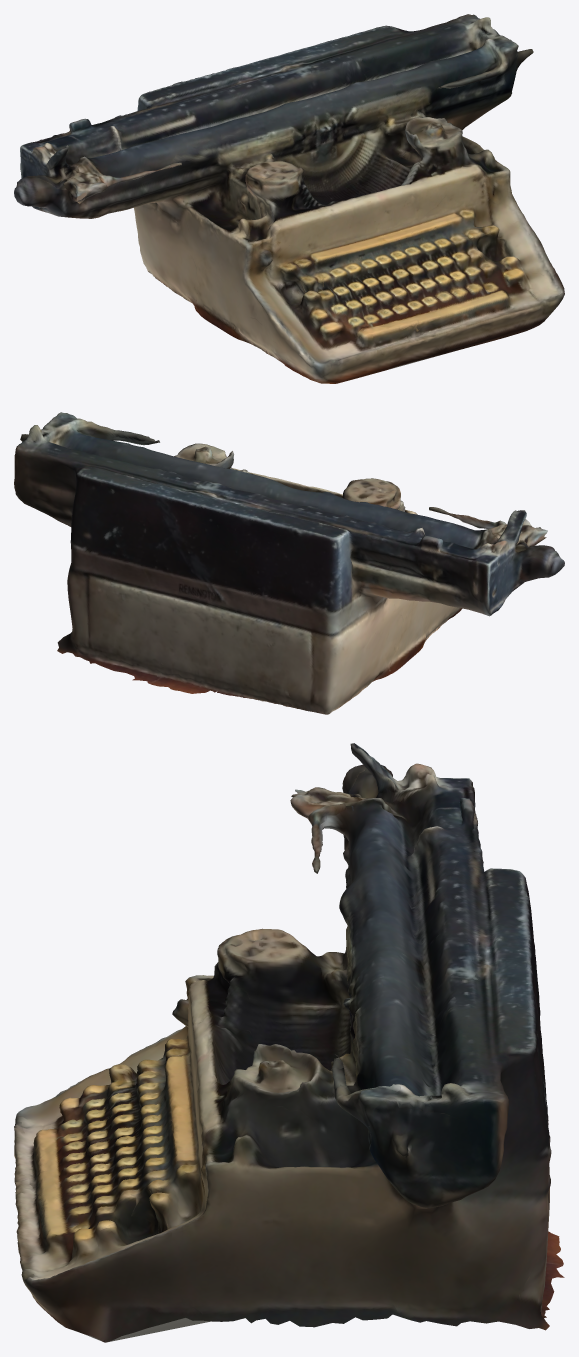
Rendered from Old_Typewriter.glb.
3 views of the same model, one above another, from view 1: azimuth 30°, elevation 25°; view 2: azimuth 150°, elevation 25°; view 3: azimuth 270°, elevation 25° (orthographic). The views are drawn at different scales.
Visible parts, largest first — view 1: 3DModel.001; view 2: 3DModel.001; view 3: 3DModel.001.
Boxes of the visible parts, box(x1,y1,x2,y2) form: 3DModel.001: box(14, 14, 564, 383); 3DModel.001: box(14, 412, 564, 714); 3DModel.001: box(14, 743, 564, 1342).
Size of the model in its own units: 0.635 by 0.227 by 0.3794.
Materials: 1 (1 with a texture image).
